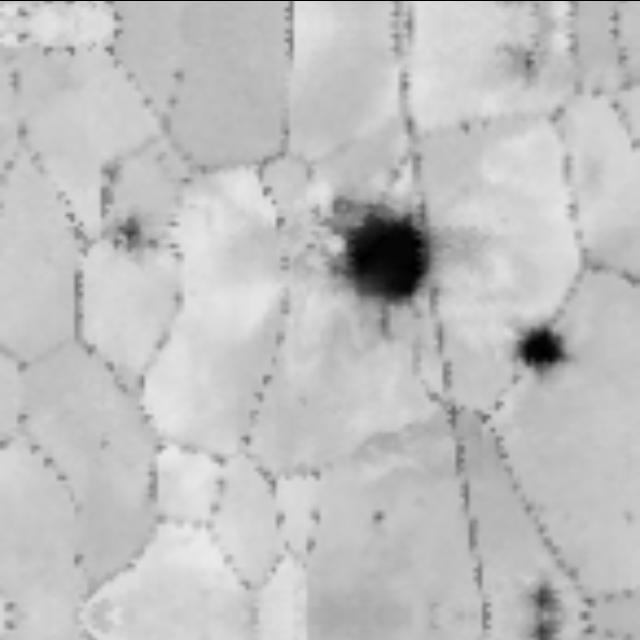good_void: (283, 169, 463, 361), (488, 308, 584, 398), (90, 197, 175, 274), (482, 23, 559, 93), (352, 497, 399, 538), (529, 571, 566, 617), (503, 0, 555, 24), (529, 616, 566, 640), (92, 435, 117, 452)
